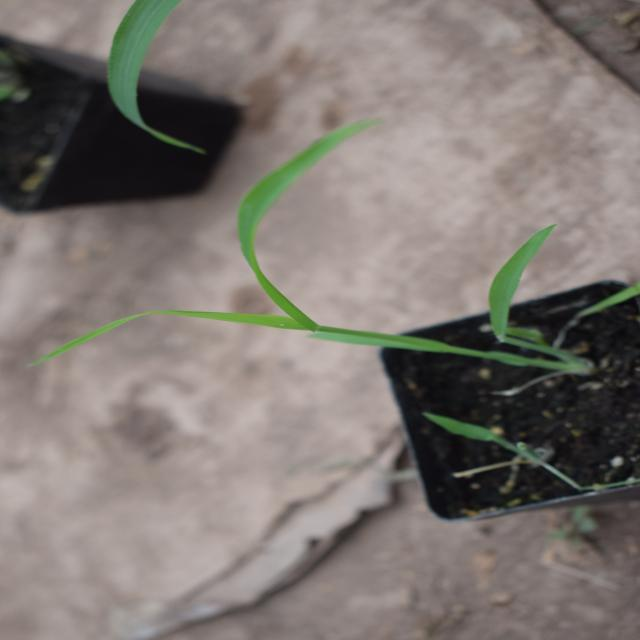crabgrass: (209, 46, 486, 572)
